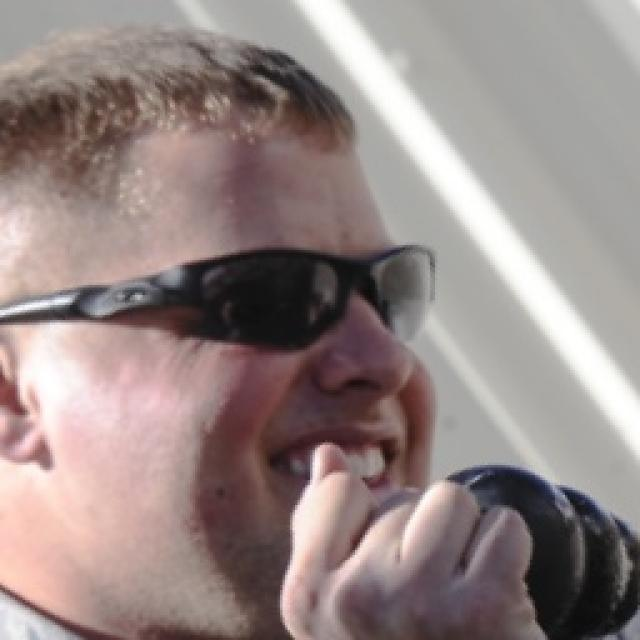glasses: (0, 232, 445, 357)
